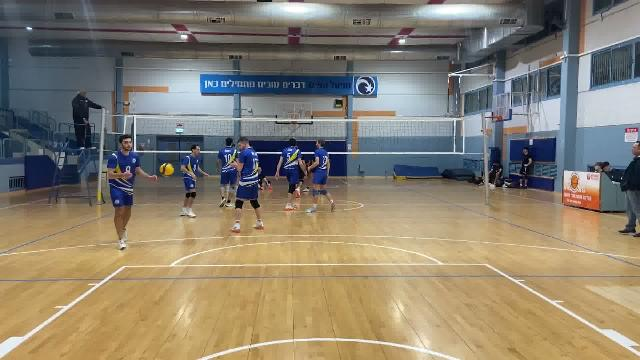ball: (157, 163, 176, 178)
